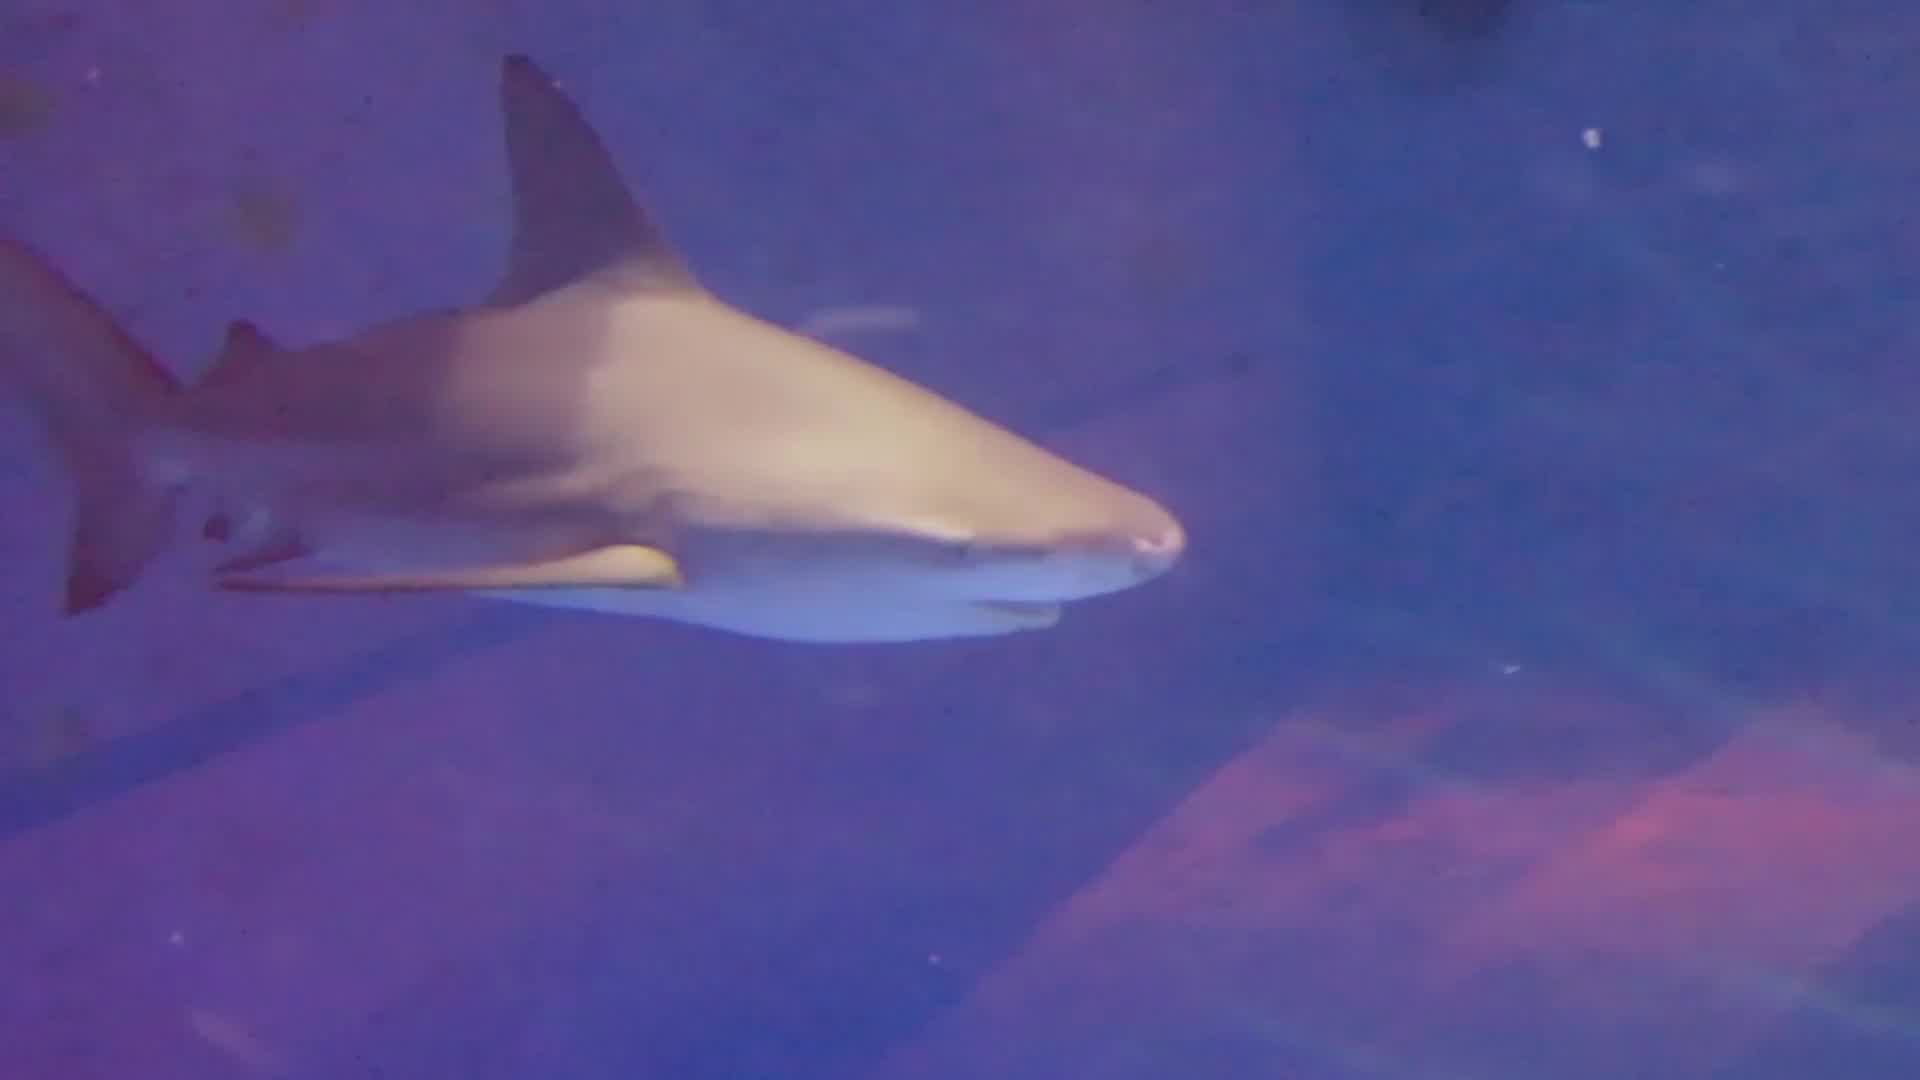Carcharhinus leucas: (1, 57, 1196, 678)
